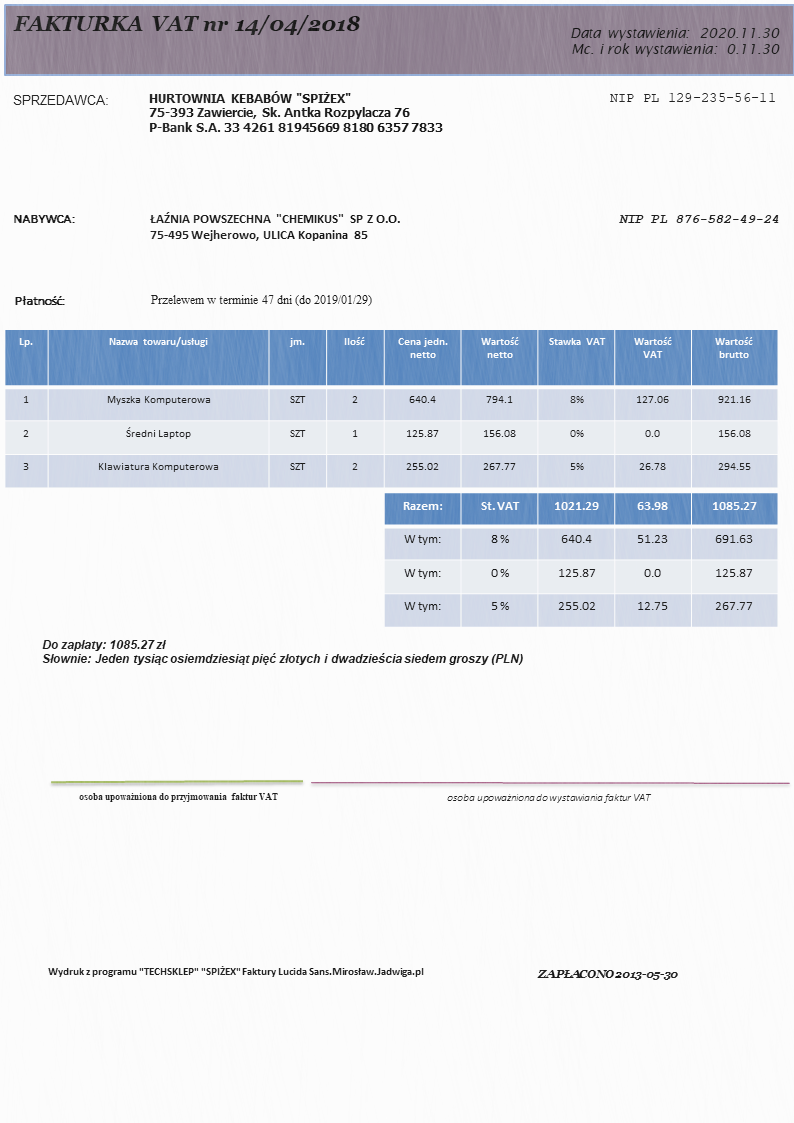Table: (2, 328, 780, 487), (382, 492, 778, 628)
TextBox: (39, 636, 526, 670), (147, 91, 444, 138), (10, 10, 365, 40), (146, 211, 403, 243), (567, 24, 785, 58), (44, 963, 427, 980), (148, 291, 375, 308), (73, 789, 281, 805), (616, 210, 780, 228), (444, 790, 652, 804), (606, 90, 777, 107), (534, 966, 681, 984), (10, 90, 110, 108), (9, 211, 76, 226), (10, 293, 68, 309)
